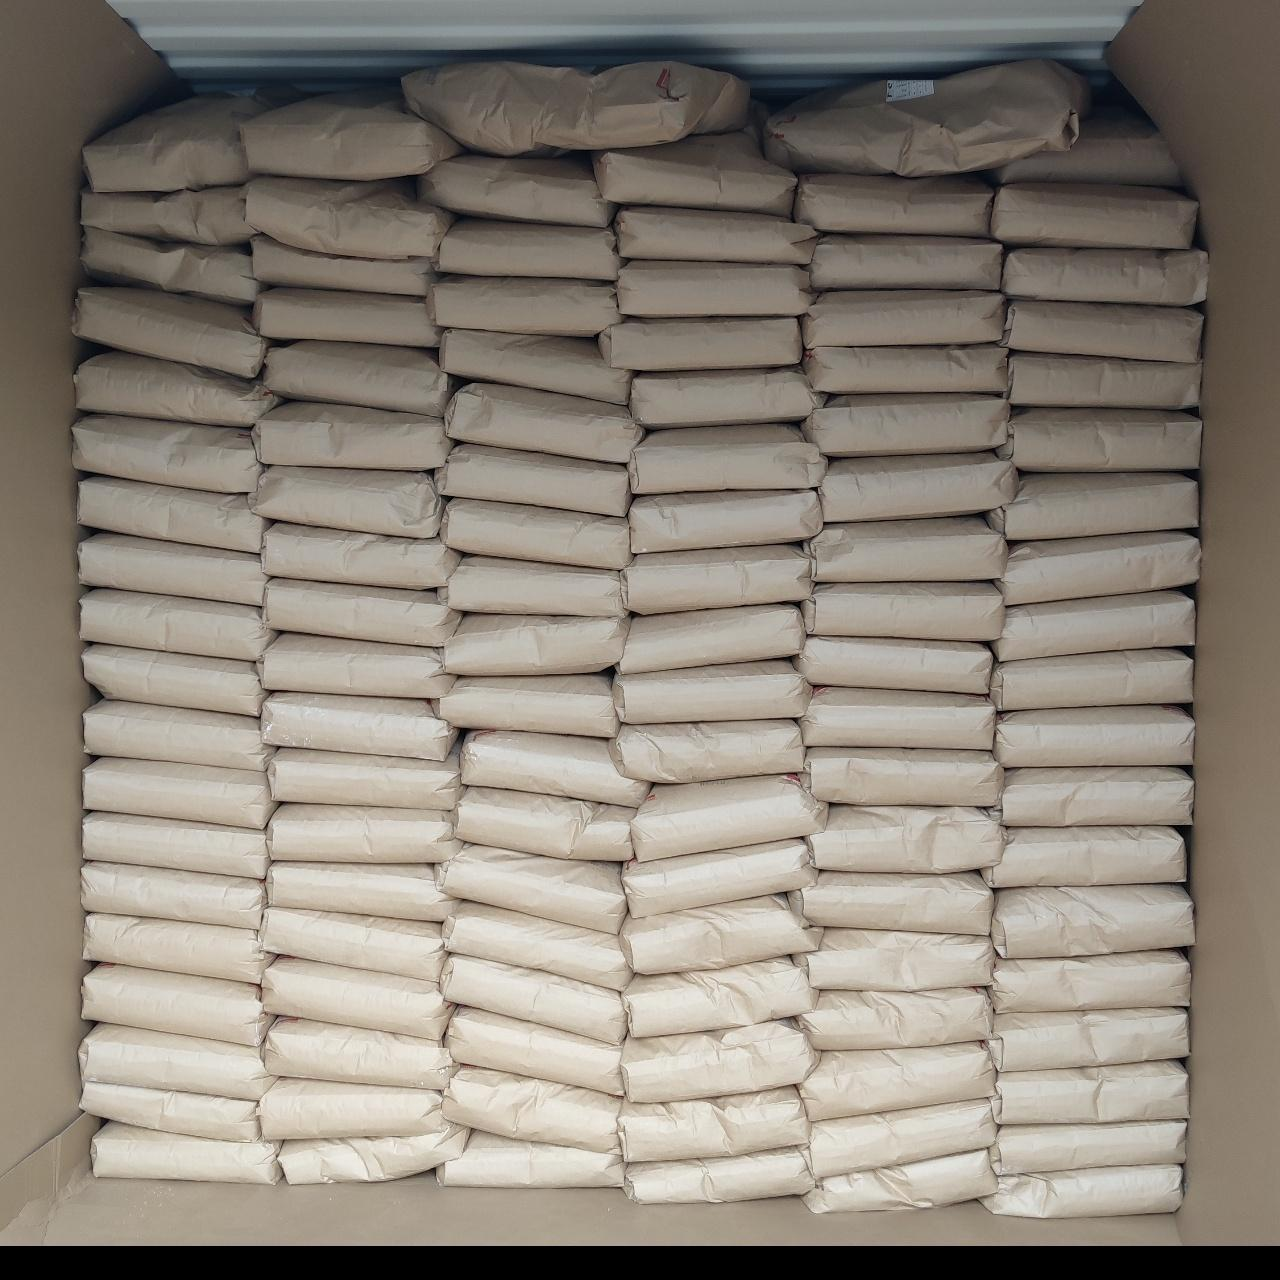sack: (765, 60, 1088, 176), (402, 61, 748, 156), (240, 90, 461, 181), (592, 128, 795, 218), (86, 96, 275, 191), (72, 287, 266, 377), (629, 776, 828, 862), (246, 178, 452, 259), (438, 845, 626, 933), (444, 903, 631, 990), (620, 896, 822, 974), (445, 383, 644, 463), (442, 955, 624, 1042), (622, 956, 817, 1037), (621, 1021, 817, 1101), (74, 350, 278, 427), (263, 956, 450, 1039), (445, 1007, 622, 1094), (799, 1042, 994, 1121), (82, 964, 267, 1046), (808, 1098, 995, 1179), (79, 476, 272, 553), (992, 107, 1182, 185), (72, 415, 261, 493), (444, 1067, 620, 1151), (990, 885, 1194, 958), (999, 533, 1200, 606), (622, 840, 817, 915), (79, 1024, 273, 1099), (441, 329, 629, 404), (990, 591, 1194, 660), (461, 731, 648, 806), (418, 156, 614, 227), (988, 474, 1197, 540), (80, 588, 274, 660), (265, 341, 450, 416), (620, 1087, 806, 1160), (437, 444, 629, 516), (628, 424, 826, 493), (819, 452, 1017, 522), (252, 402, 452, 470), (81, 227, 259, 304), (990, 183, 1197, 248), (83, 758, 275, 829), (84, 700, 273, 771), (80, 533, 267, 605), (806, 805, 1003, 873), (455, 787, 635, 860), (266, 1017, 452, 1089), (251, 467, 440, 537), (261, 693, 457, 760), (809, 516, 1007, 581), (791, 871, 993, 935), (442, 499, 629, 568), (266, 579, 459, 646), (621, 546, 811, 614), (83, 645, 264, 716), (263, 908, 443, 980), (989, 1008, 1189, 1073), (83, 914, 268, 983), (982, 826, 1187, 888), (264, 523, 459, 587), (794, 173, 993, 237), (619, 605, 804, 673), (990, 951, 1189, 1014), (999, 408, 1200, 470), (613, 660, 810, 723), (82, 862, 265, 930), (802, 395, 1008, 455), (263, 633, 452, 697), (992, 1061, 1189, 1123), (1000, 247, 1208, 306), (1001, 301, 1201, 362), (993, 707, 1193, 768), (629, 490, 822, 553), (83, 812, 268, 878), (990, 651, 1192, 710), (614, 719, 804, 782), (267, 748, 459, 810), (798, 930, 994, 990), (806, 1150, 998, 1212), (799, 687, 994, 748), (805, 747, 1003, 806), (91, 1122, 280, 1184), (798, 988, 990, 1049), (803, 291, 1005, 348), (279, 1123, 469, 1184), (427, 275, 620, 335), (803, 583, 1003, 640), (1001, 767, 1193, 826), (252, 234, 435, 297), (631, 367, 821, 427), (440, 675, 618, 738), (438, 218, 619, 280), (617, 207, 816, 264), (259, 1078, 442, 1139), (266, 862, 452, 921), (442, 557, 627, 617), (266, 804, 458, 862), (599, 316, 802, 370), (794, 636, 992, 692), (254, 288, 440, 347), (444, 614, 629, 673), (437, 1130, 624, 1187), (1009, 352, 1198, 408), (989, 1121, 1186, 1175), (810, 234, 1002, 290), (619, 261, 812, 315), (83, 1082, 260, 1141), (981, 1165, 1182, 1217), (625, 1148, 813, 1201), (82, 186, 256, 245), (802, 345, 1008, 392)
